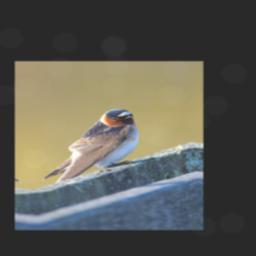Swallow: (32, 106, 147, 187)
